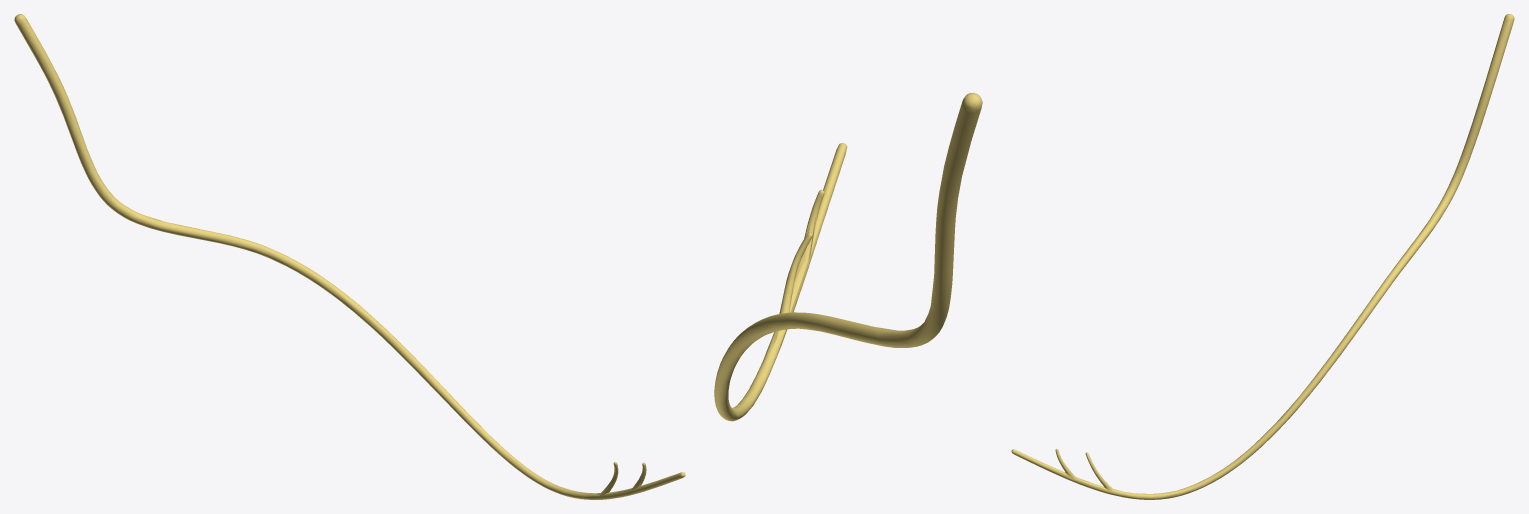
File: Trunk of right lingual nerve.fbx
3 renders of one model, left to right at view 1: azimuth 30°, elevation 25°; view 2: azimuth 150°, elevation 25°; view 3: azimuth 270°, elevation 25°, orthographic. The views are drawn at different scales.
Visible parts, largest first — view 1: Trunk of right lingual nerve; view 2: Trunk of right lingual nerve; view 3: Trunk of right lingual nerve.
Boxes of the visible parts, bbox=[...] form: Trunk of right lingual nerve: bbox=[14, 14, 685, 499]; Trunk of right lingual nerve: bbox=[714, 93, 982, 421]; Trunk of right lingual nerve: bbox=[1011, 14, 1514, 499].
Size of the model in its own units: 4.74 by 4.92 by 6.47.
